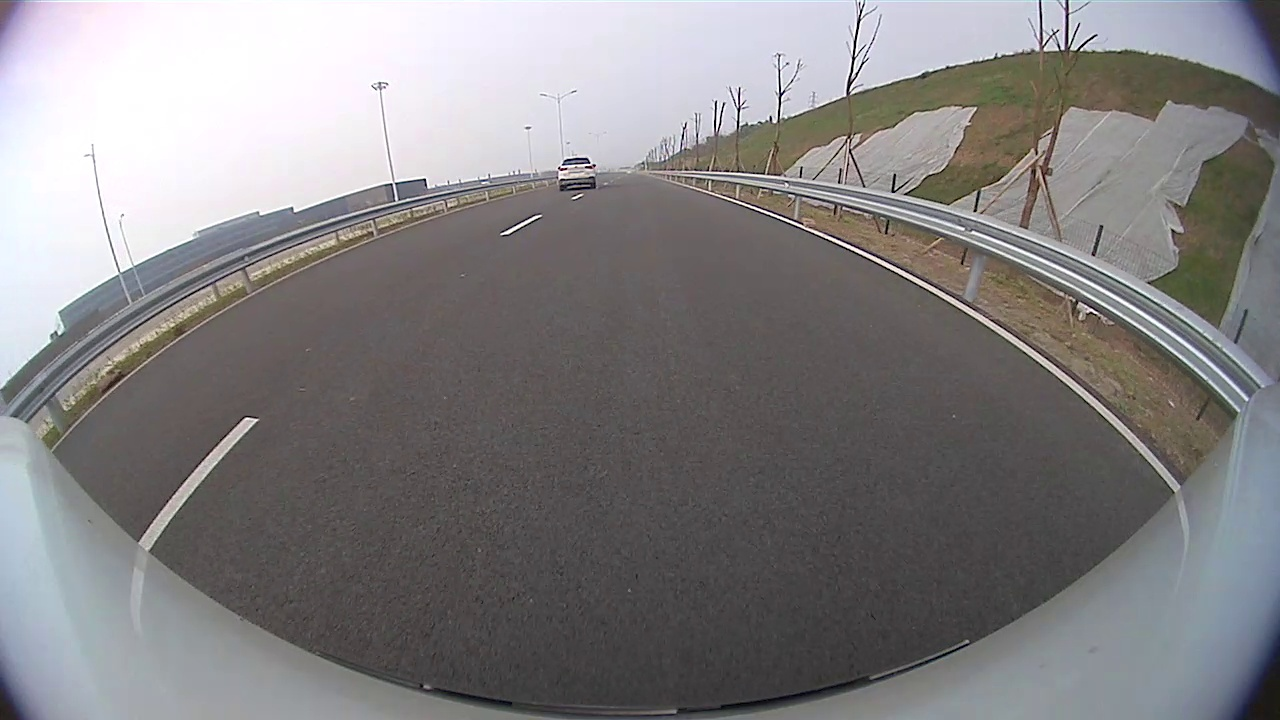car: (555, 154, 598, 191)
